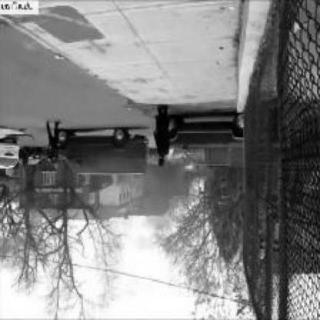Fire: (158, 144, 192, 170)
Smoke: (134, 170, 200, 232)
